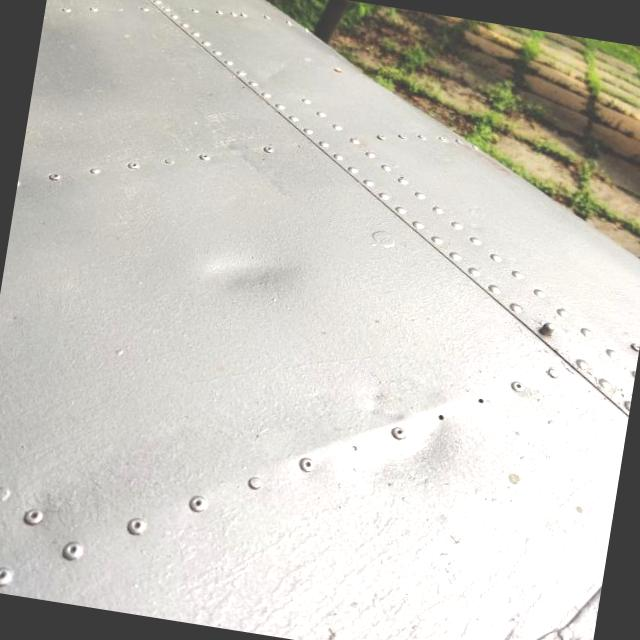dent: (166, 185, 336, 348), (321, 360, 491, 523)
